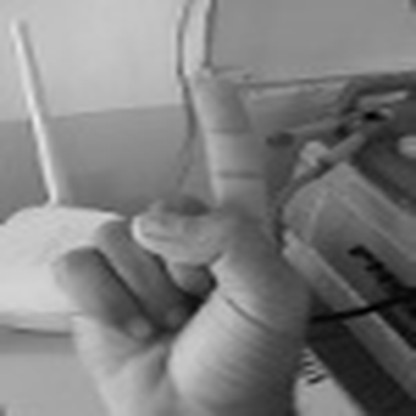d: (58, 62, 304, 416)
